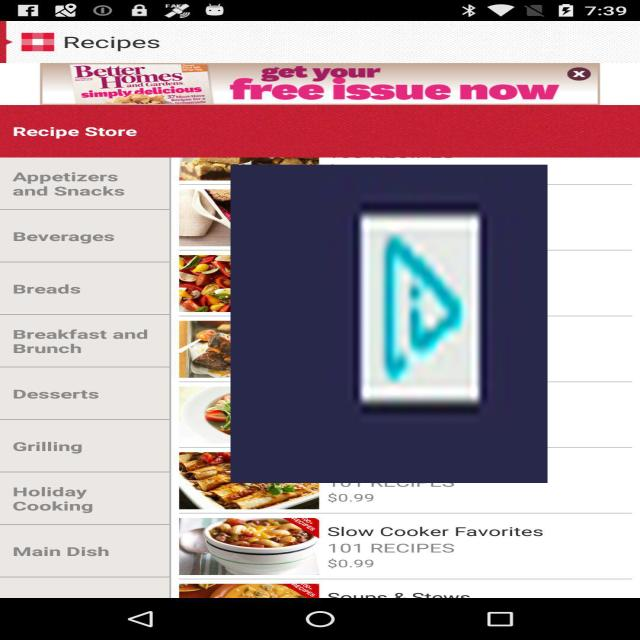sneaking: (230, 165, 548, 483)
